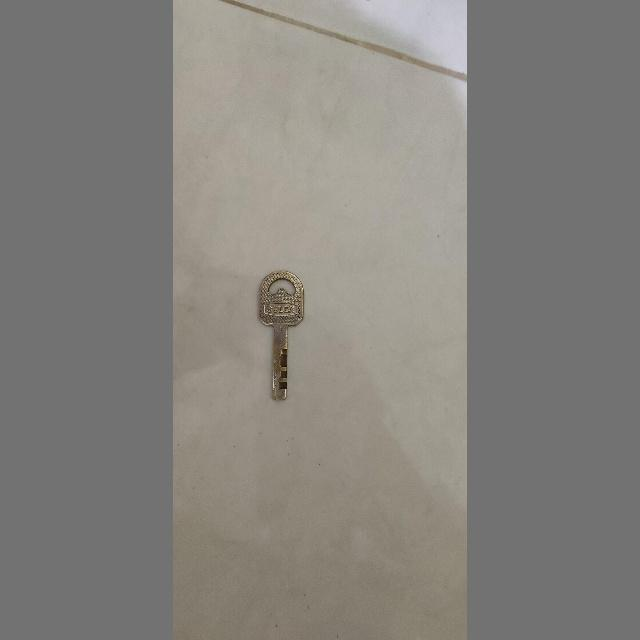Keys: (248, 255, 320, 413)
